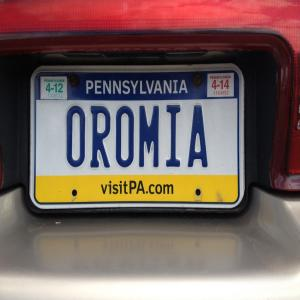Vehicle-registration-plate: (28, 66, 247, 212)
